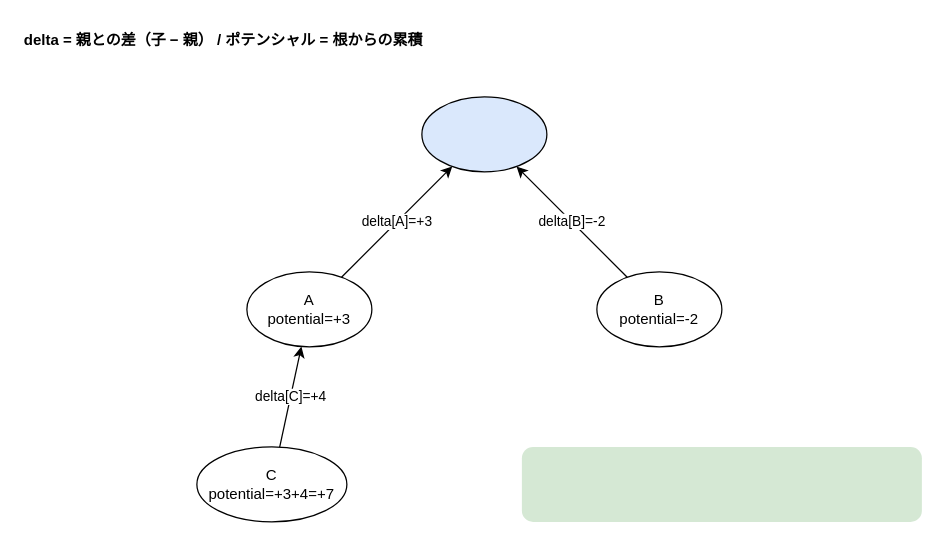
Some shapes in this 943 by 544 pixel diagram are drawn without their labels. Each missing label, with the centre of its shape:
diff(B, A) = potential(A) - potential(B) = 3 - (-2) = 5 （A は B より 5 大きい）: the point at 721,483
根 R potential=0: the point at 484,134
